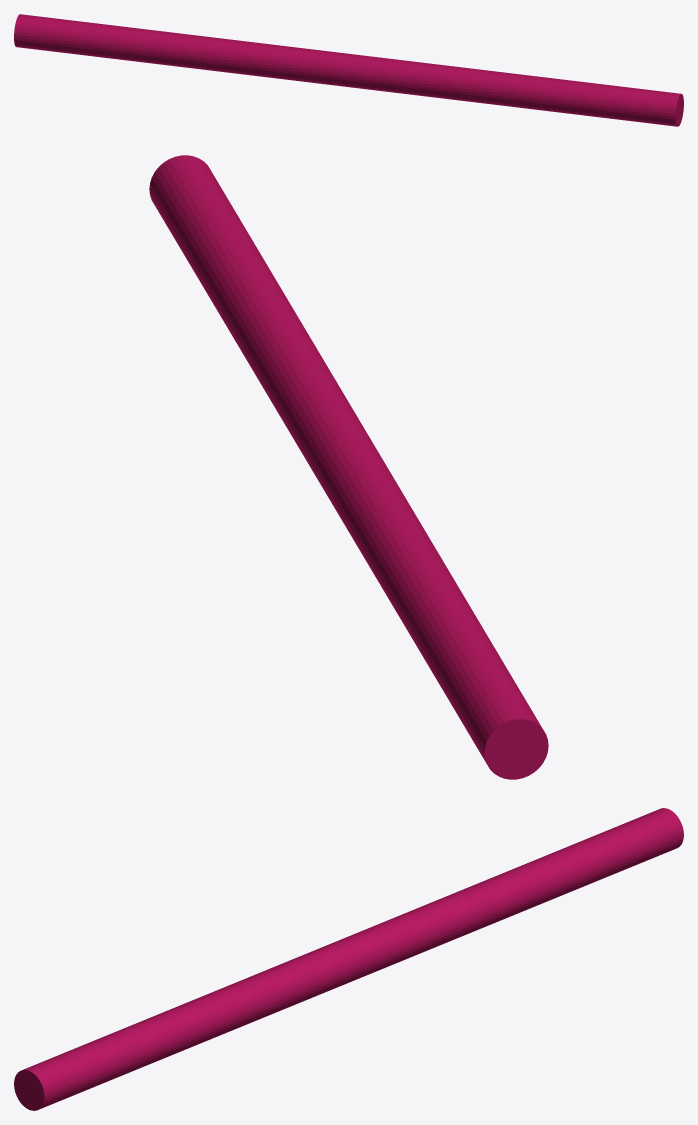
The model's file is bar.obj.
3 renders of one model, top to bottom at view 1: azimuth 30°, elevation 25°; view 2: azimuth 150°, elevation 25°; view 3: azimuth 270°, elevation 25°, orthographic. The views are drawn at different scales.
Parts seen in each view (by area): view 1: bar; view 2: bar; view 3: bar.
Part boxes in pixels (x1,y1,x2,y2): bar: (14, 14, 683, 126); bar: (149, 155, 548, 779); bar: (14, 808, 683, 1110).
Bounding box in the file's own units: 0.8801 × 0.0582 × 0.9073.
